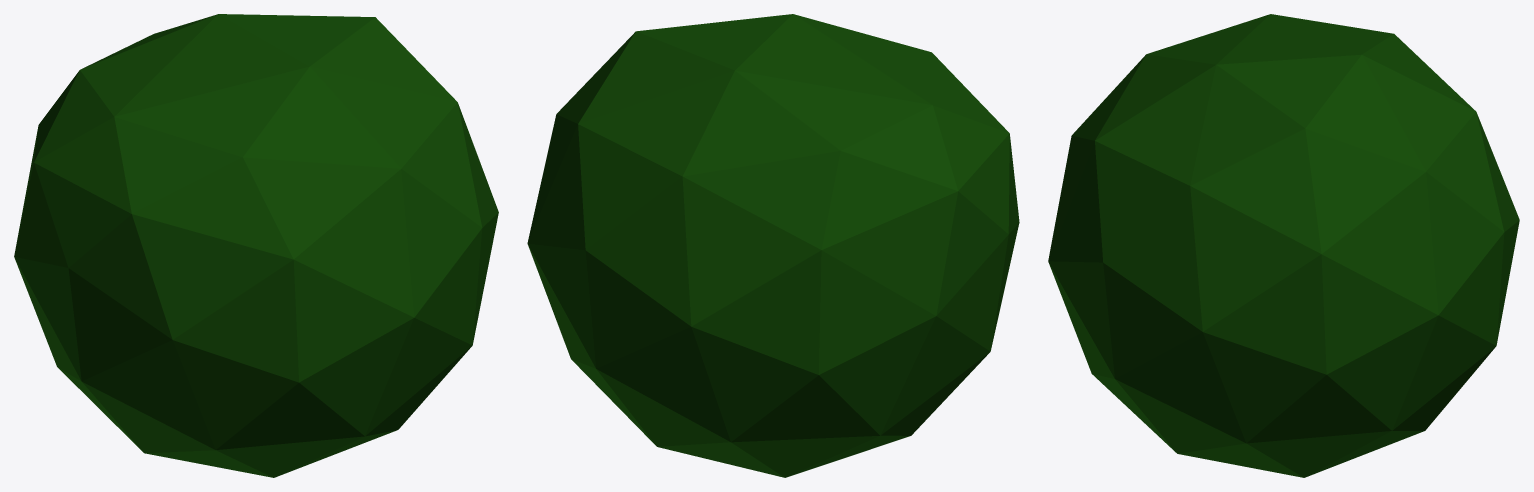
The picture shows the model from 3 angles, left to right: view 1: azimuth 30°, elevation 25°; view 2: azimuth 150°, elevation 25°; view 3: azimuth 270°, elevation 25°; orthographic projection. The views are drawn at different scales.
Parts seen in each view (by area): view 1: Icosphere.015; view 2: Icosphere.015; view 3: Icosphere.015.
Boxes of the visible parts, box(x1,y1,x2,y2) form: Icosphere.015: box(14, 14, 498, 477); Icosphere.015: box(527, 14, 1019, 477); Icosphere.015: box(1048, 14, 1519, 477).
Size of the model in its own units: 1.13 by 1.03 by 1.13.
